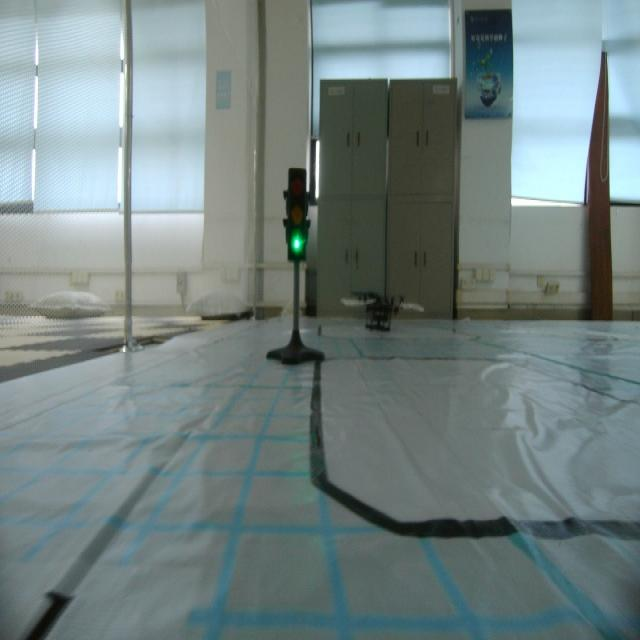green: (283, 162, 316, 264)
